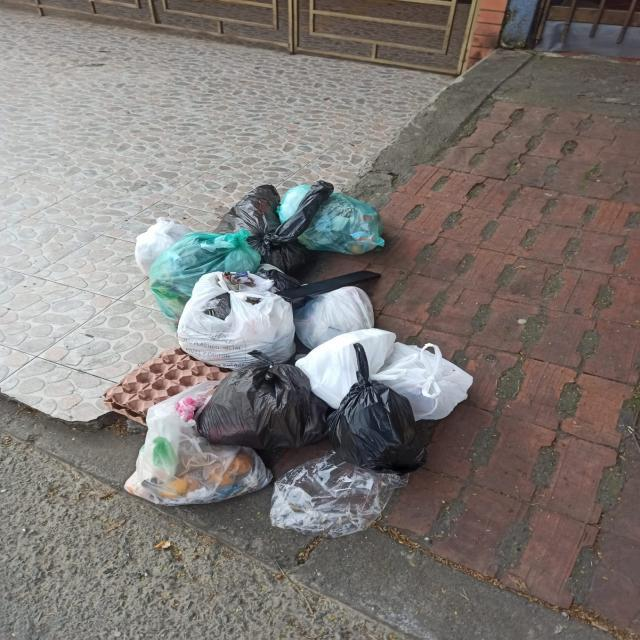high trash: (106, 181, 471, 536)
